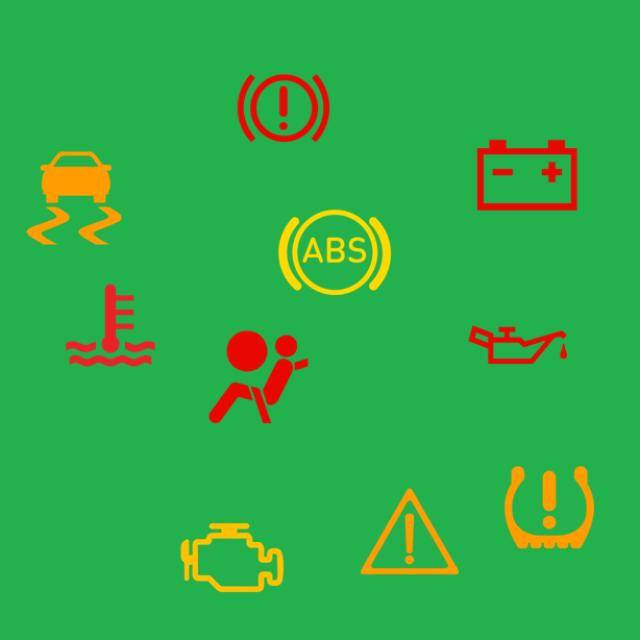Anti Lock Braking System: (273, 190, 396, 314)
Braking System Issue: (222, 47, 345, 170)
Charging System Issue: (466, 114, 589, 236)
Check Engine: (171, 496, 294, 619)
Electronic Stability Problem -ESP-: (12, 136, 136, 260)
Engine Overheating Warning Light: (49, 264, 172, 386)
Low Engine Oil Warning Light: (456, 284, 580, 406)
Low Tire Pressure Warning Light: (488, 446, 611, 569)
Master warning light: (348, 470, 471, 593)
SRS-Airbag: (197, 316, 320, 439)
